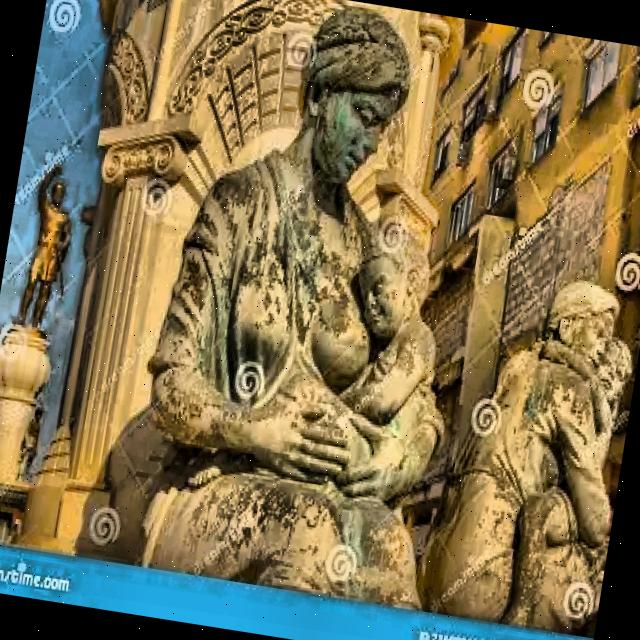Philip II of Macedonia: (0, 155, 85, 542)
